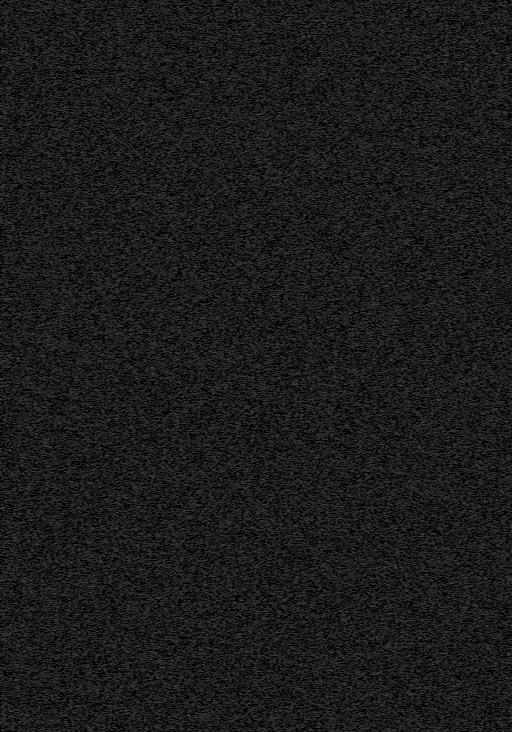wv_am: (294, 0, 300, 589), (295, 590, 300, 732)
wv_cw: (276, 0, 281, 732)
wv_lsb: (102, 5, 107, 305), (102, 582, 107, 732), (102, 391, 107, 503), (102, 363, 107, 390), (102, 525, 107, 548), (102, 504, 107, 514), (103, 328, 106, 340), (103, 318, 106, 327), (103, 351, 106, 358), (103, 308, 106, 314), (103, 570, 106, 575), (103, 345, 106, 350), (103, 341, 106, 344)
wv_usb: (222, 27, 227, 83), (222, 621, 227, 676), (223, 681, 227, 717), (222, 84, 227, 107), (222, 108, 227, 129), (222, 5, 227, 26), (222, 130, 226, 143), (223, 160, 226, 174), (223, 146, 226, 159), (223, 721, 226, 732), (223, 205, 226, 214), (223, 196, 226, 204), (223, 597, 226, 605), (223, 563, 226, 571), (223, 235, 226, 242), (223, 579, 226, 586), (223, 443, 226, 449), (223, 402, 226, 408), (223, 307, 226, 313), (223, 546, 226, 552), (223, 337, 227, 341), (223, 464, 226, 469), (223, 422, 226, 427), (223, 359, 226, 364), (223, 176, 226, 181), (223, 615, 226, 620), (223, 346, 226, 350), (223, 677, 227, 680), (223, 217, 226, 221), (223, 589, 226, 593), (223, 483, 226, 486), (223, 342, 226, 345), (223, 327, 226, 330), (223, 320, 226, 323), (223, 290, 226, 293), (223, 257, 226, 260)
